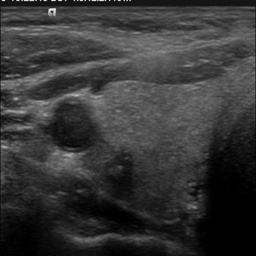mass: (51, 98, 94, 149)
